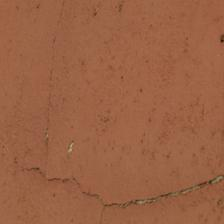Crack: (27, 166, 222, 215)
